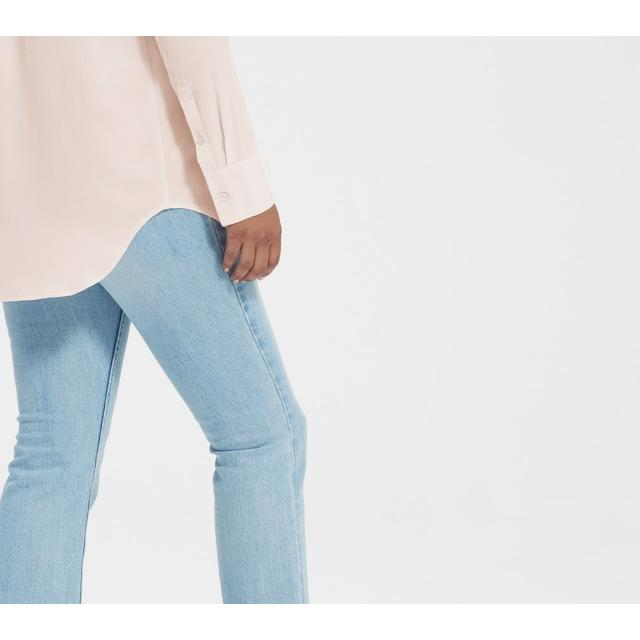denim: (162, 218, 218, 370)
